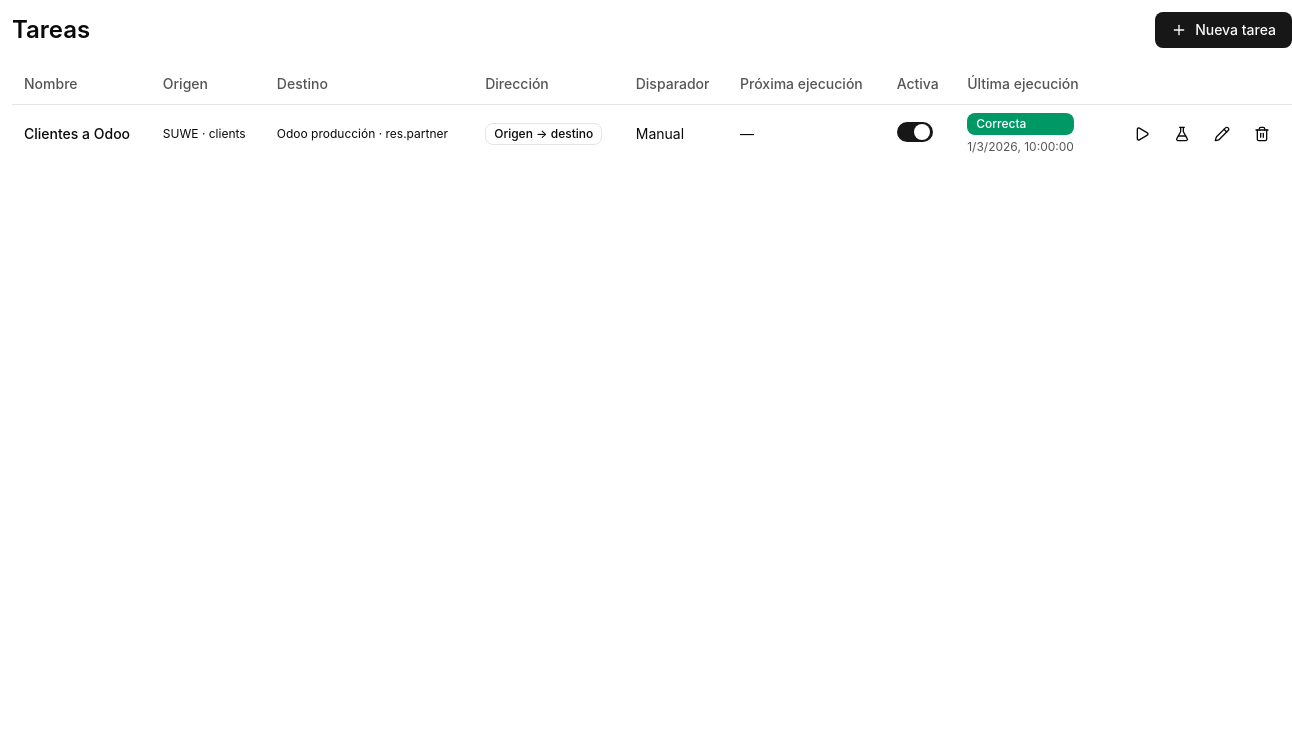
Scenario: JobsPage › starts a dry run straight away and reports it
Click the button named "Simular Clientes a Odoo": (1182, 134) x1=1164 y1=116 x2=1200 y2=152
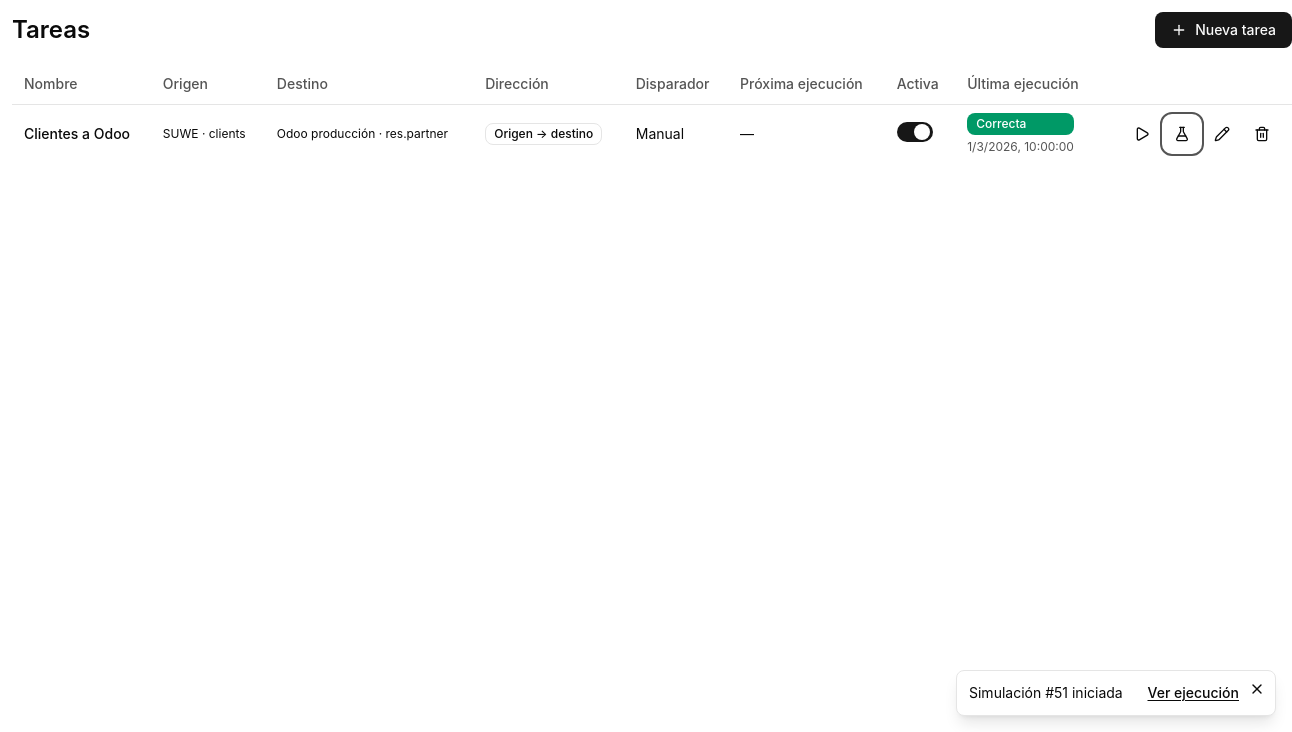
Expected: the text "Simulación #51 iniciada" is shown, x1=969 y1=683 x2=1136 y2=703
